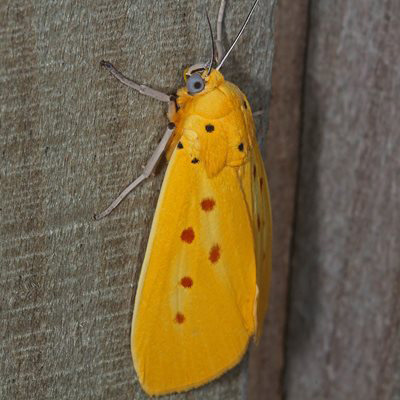Agape chloropyga: (93, 1, 273, 398)
moth: (95, 2, 275, 400)
